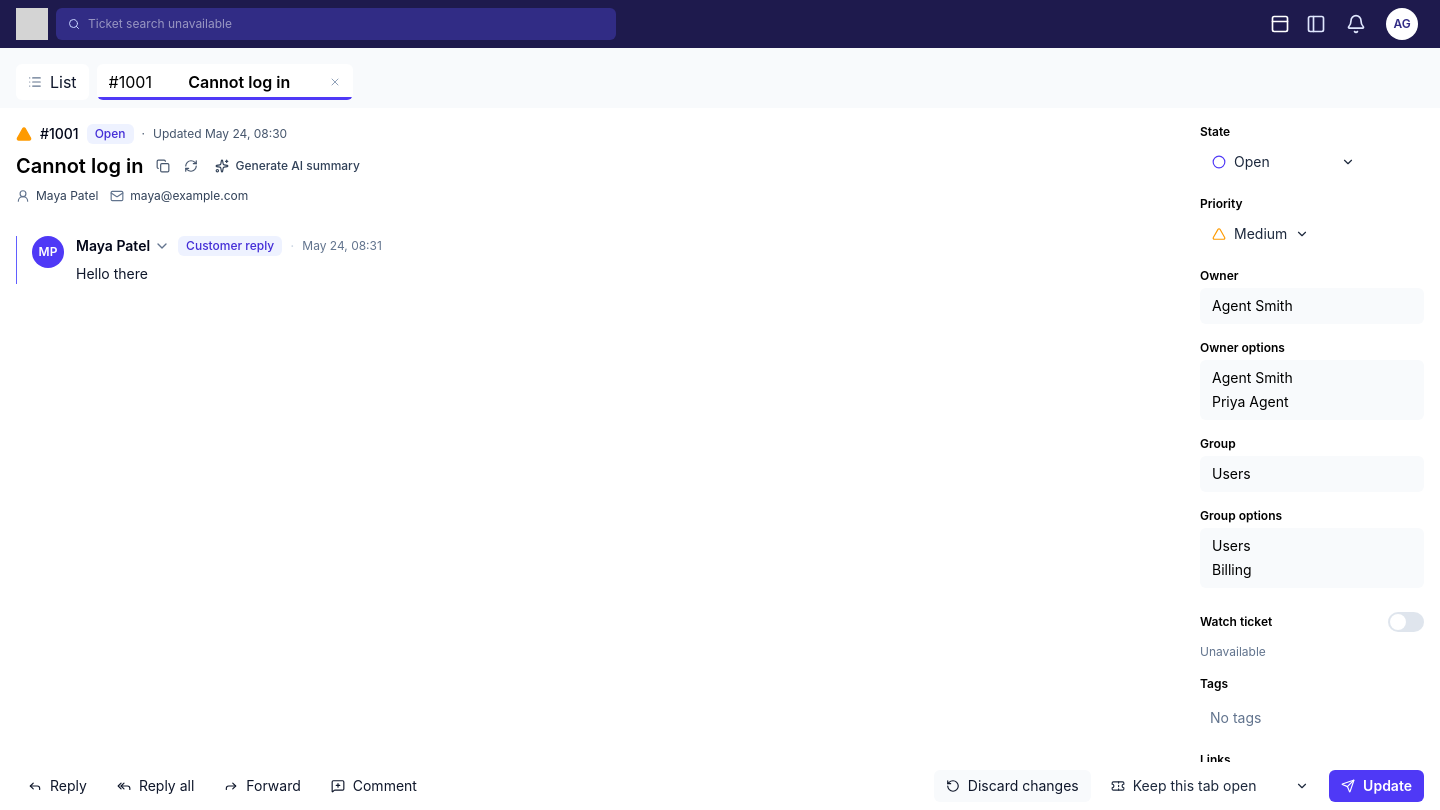
Test: TicketWorkspace staged metadata updates › marks changed fields and clears them with Discard changes
Click the dropdown named "Ticket priority": (1261, 234) [1200, 216, 1321, 252]
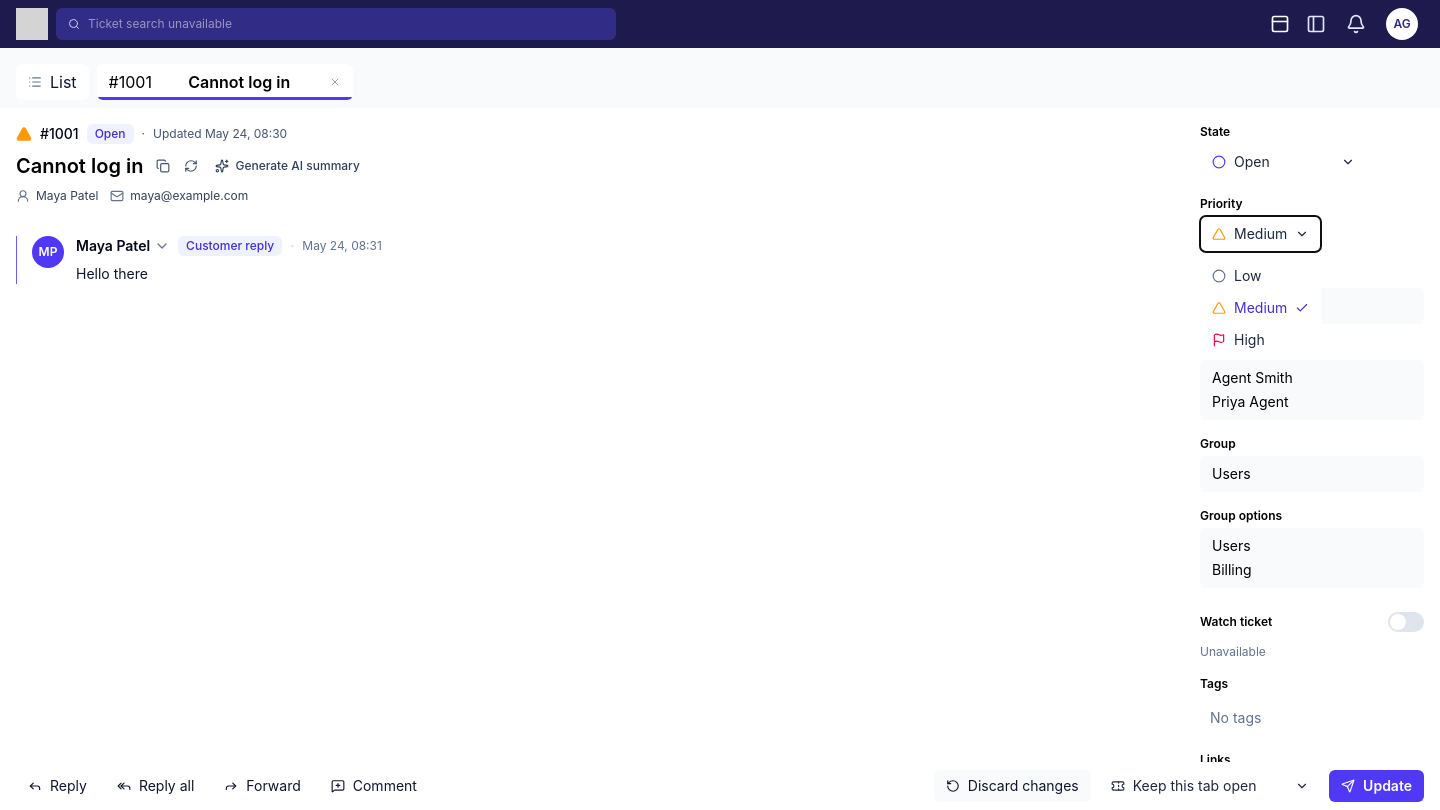
Click the option "High": (1261, 340) [1204, 324, 1317, 356]
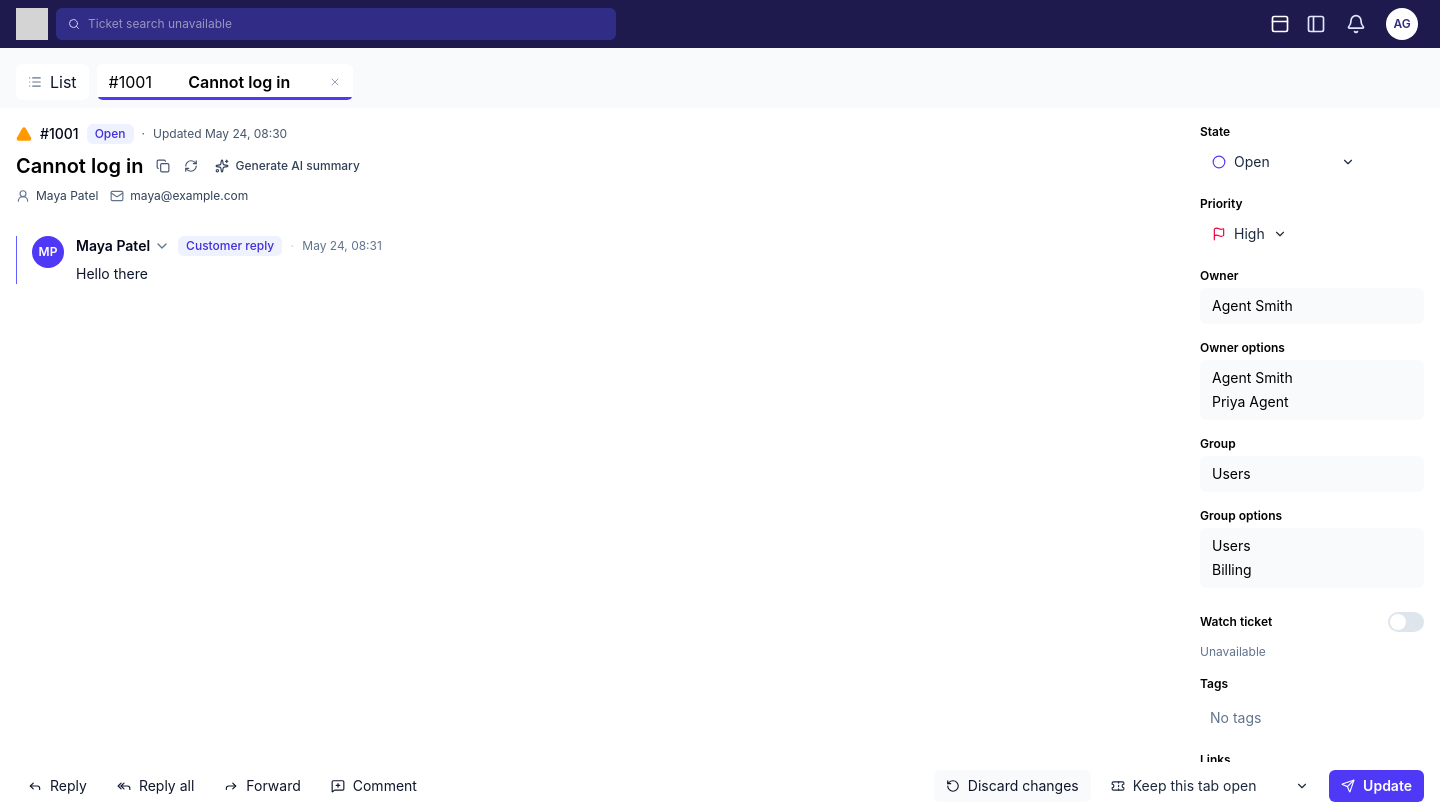
expect the dropdown named "Ticket priority" has class "border-amber-500": met, box [1200, 216, 1299, 252]
Click the button "Discard changes": (1012, 786) [934, 770, 1091, 802]
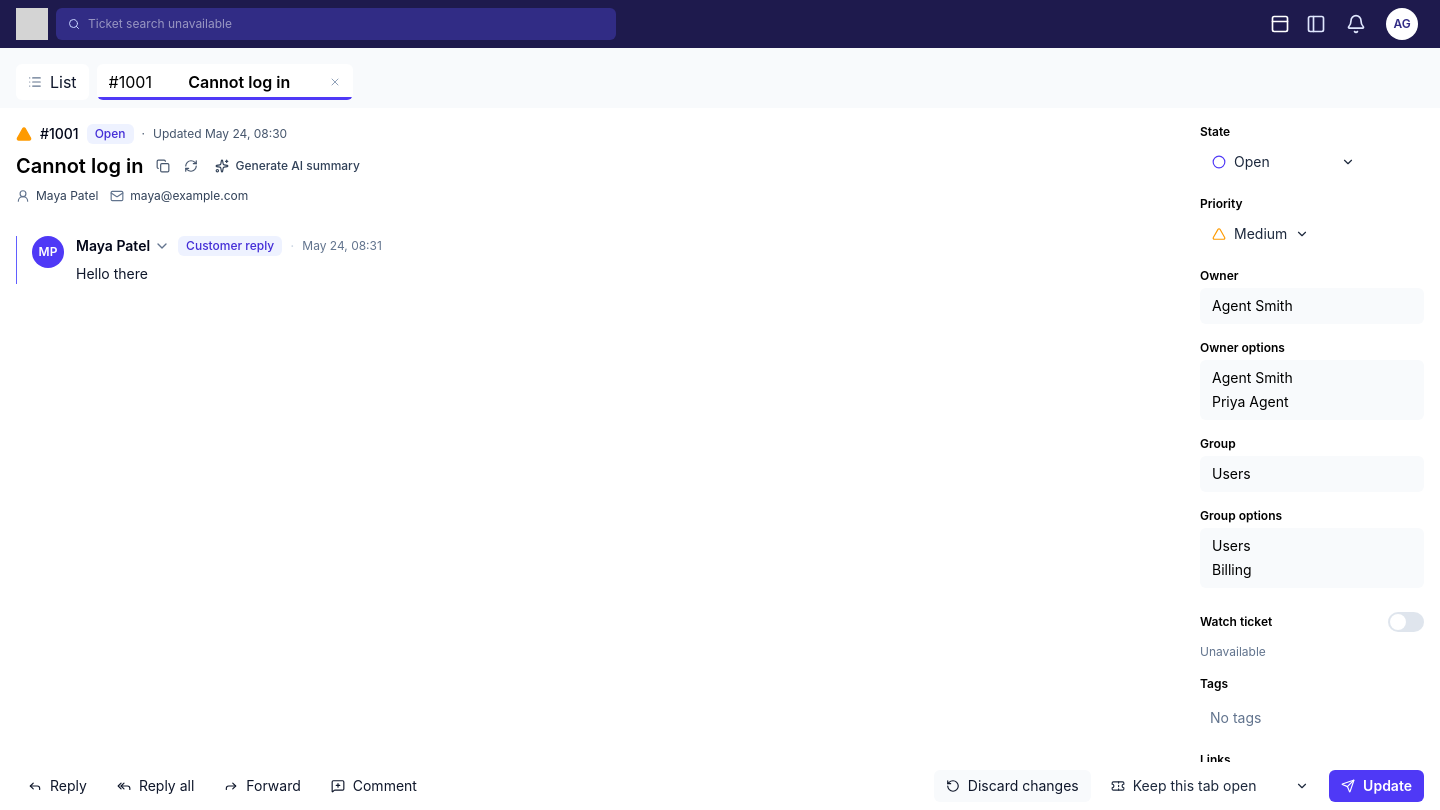
expect the button "Update" is disabled: met, box [1329, 770, 1424, 802]
expect the dropdown named "Ticket priority" reads "Medium": met, box [1200, 216, 1321, 252]
